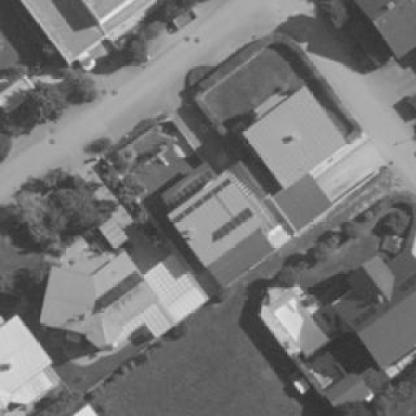solar-pv-panel: (173, 177, 230, 222), (168, 168, 214, 207), (97, 270, 141, 308), (214, 208, 251, 240), (351, 305, 377, 327), (397, 272, 416, 293)
